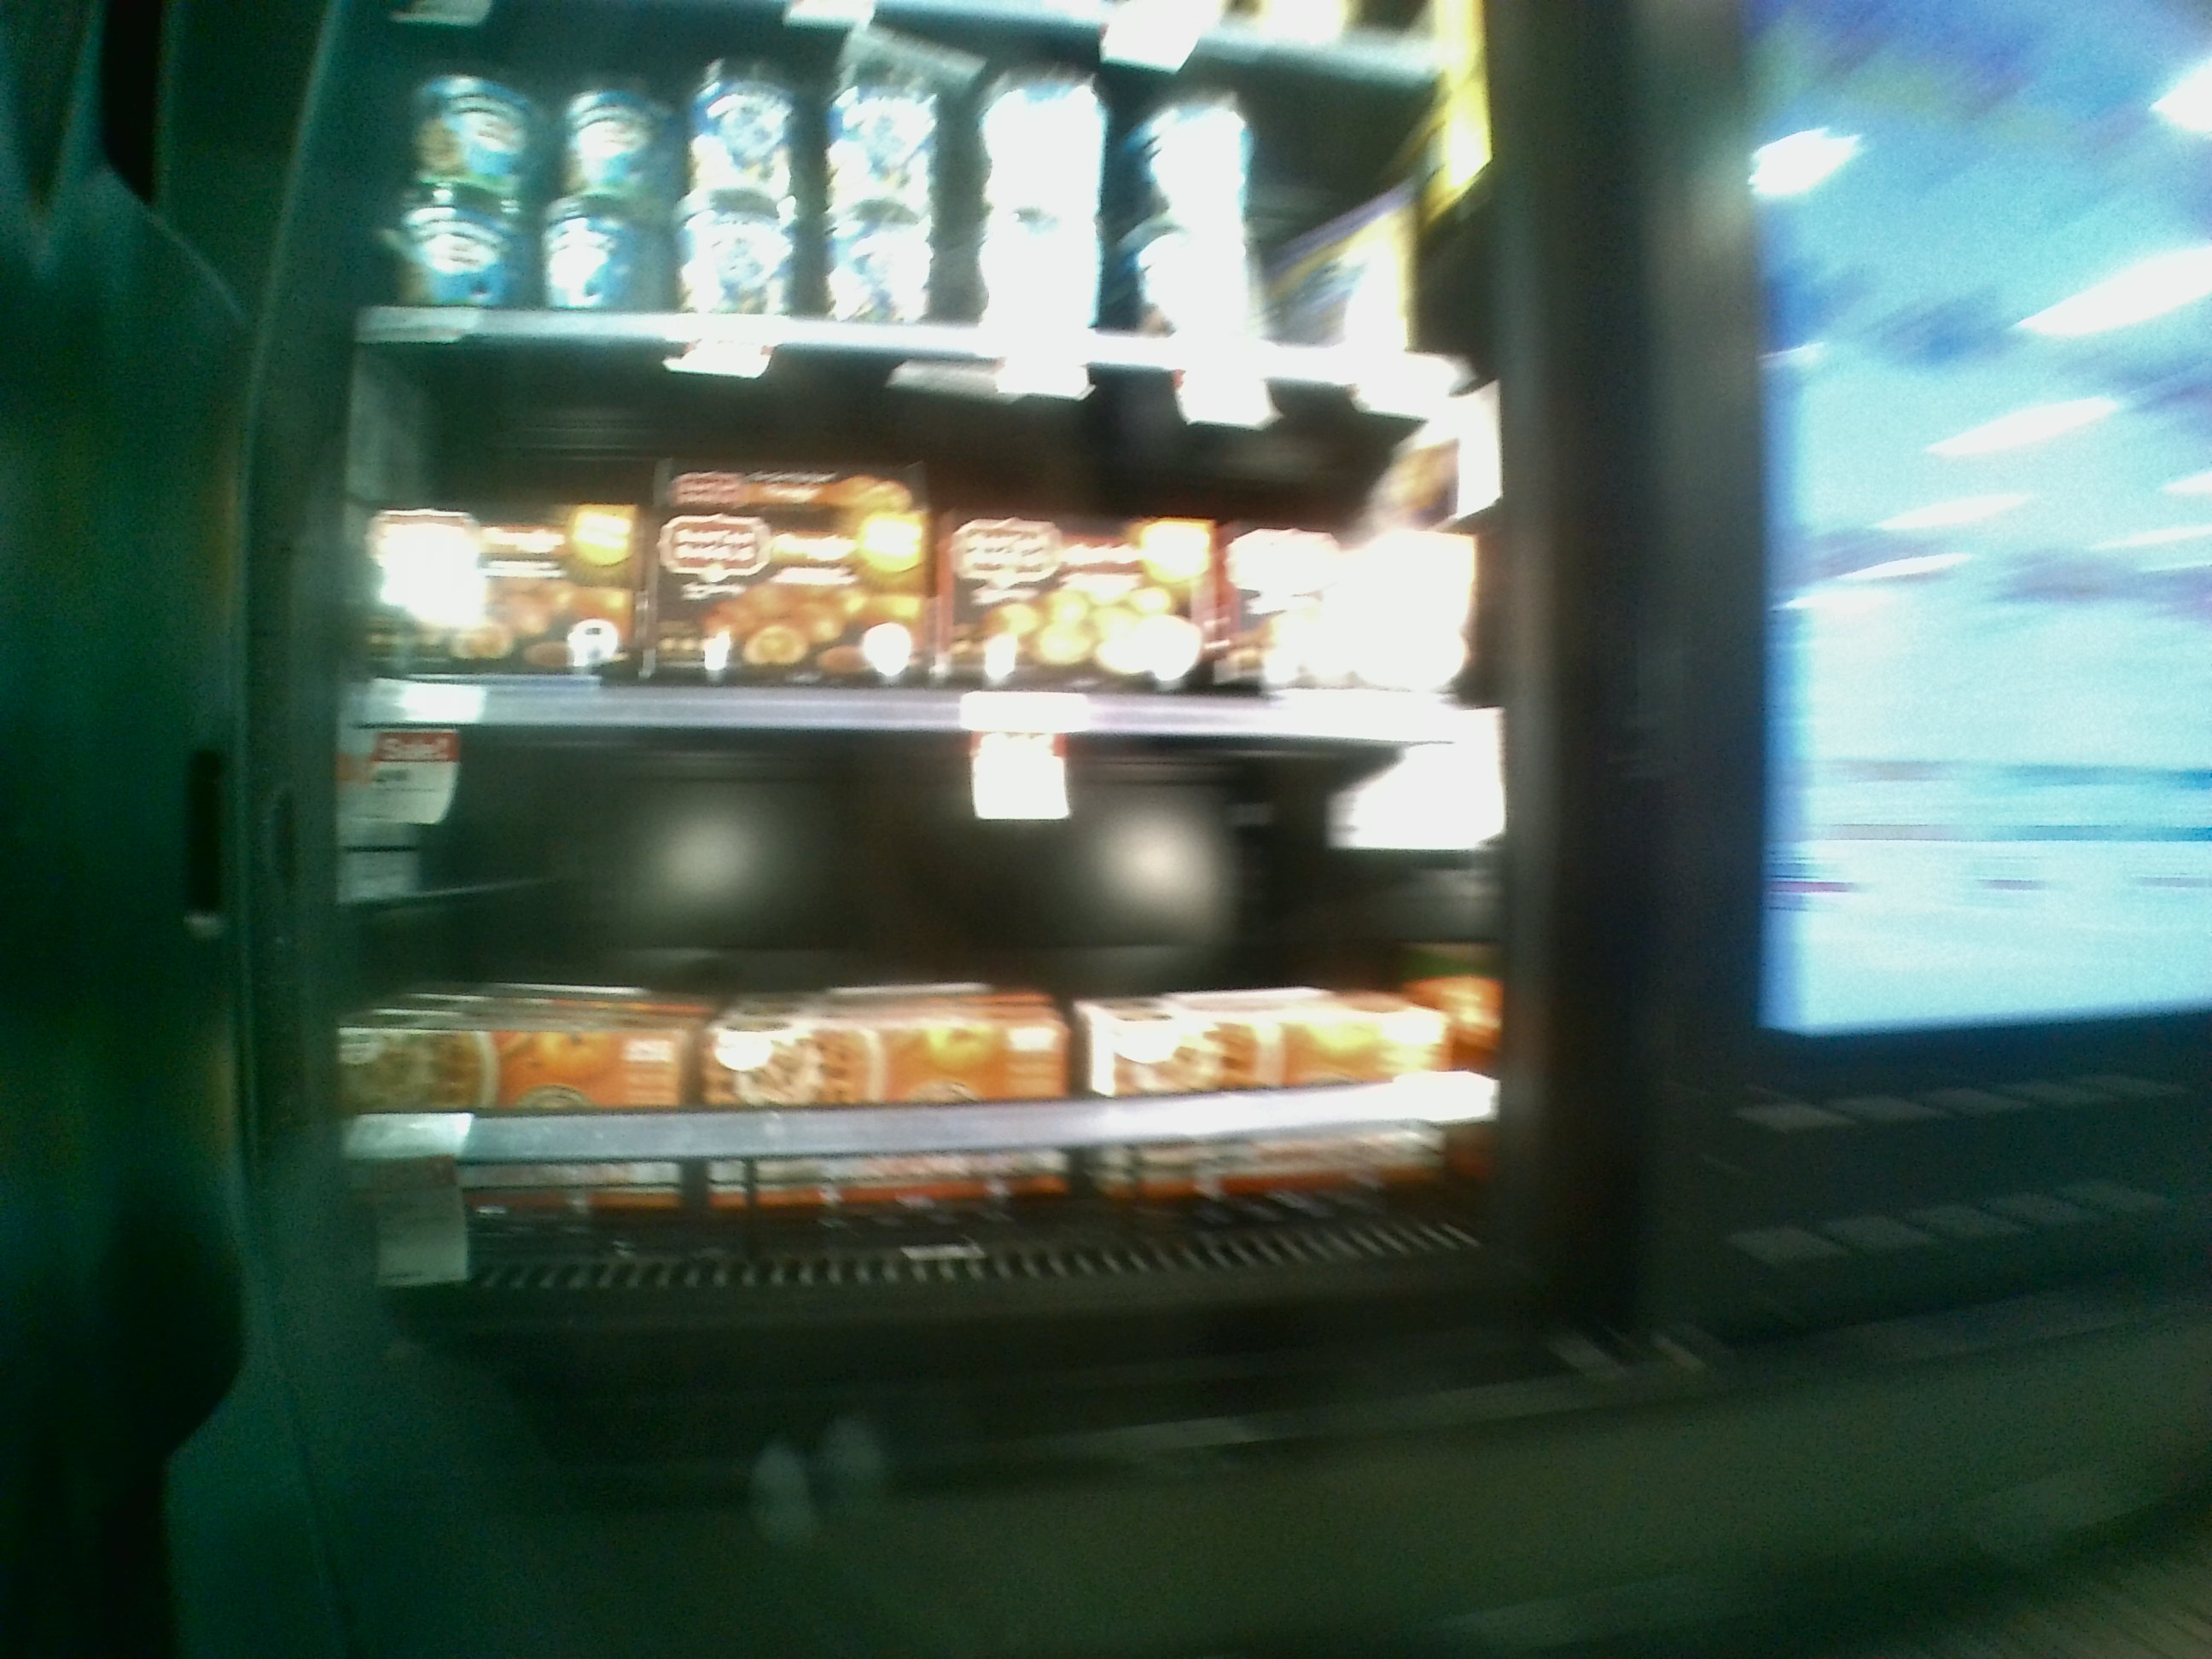shelf: (324, 706, 1512, 1244), (341, 321, 1498, 735)
